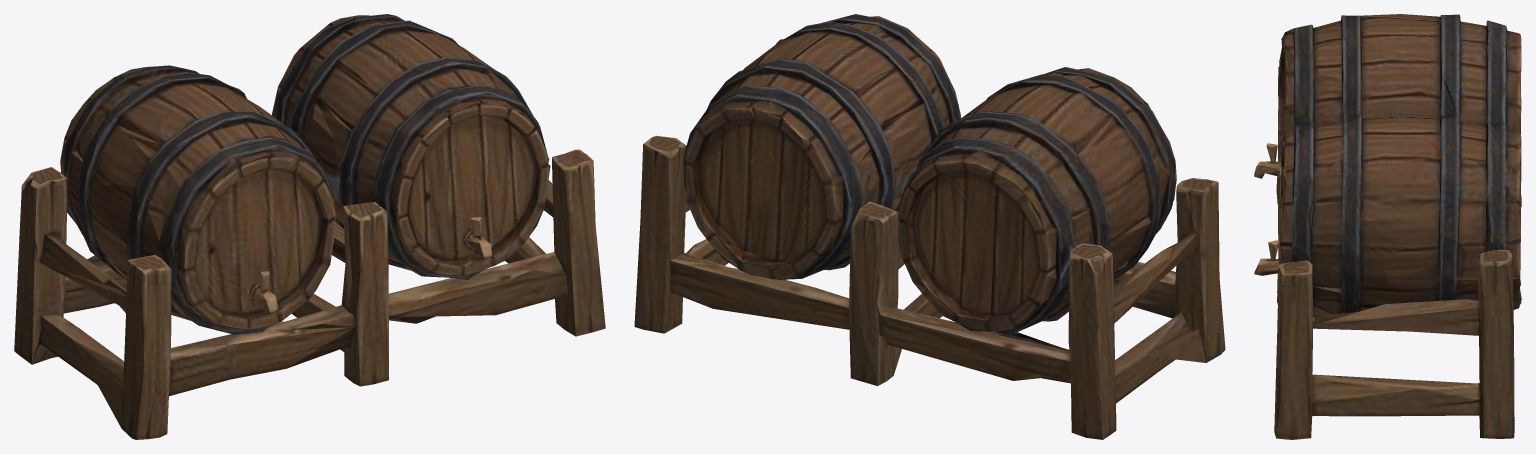
The model's file is keg_rack_3d.glb.
3 views of the same model, side by side, from view 1: azimuth 30°, elevation 25°; view 2: azimuth 150°, elevation 25°; view 3: azimuth 270°, elevation 25° (orthographic). The views are drawn at different scales.
Visible parts, largest first — view 1: Mesh_0; view 2: Mesh_0; view 3: Mesh_0.
Part boxes in pixels (x1,y1,x2,y2): Mesh_0: (14,14,605,439); Mesh_0: (634,14,1225,439); Mesh_0: (1254,14,1521,439).
Size of the model in its own units: 1.58 by 0.875 by 0.8206.
1 material, 1 textured.
